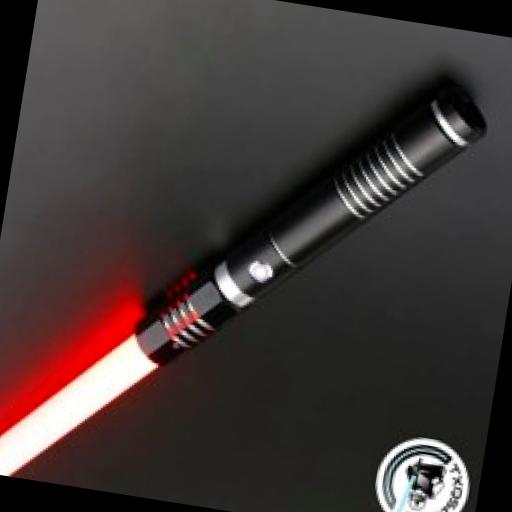sith saber: (0, 25, 493, 512)
